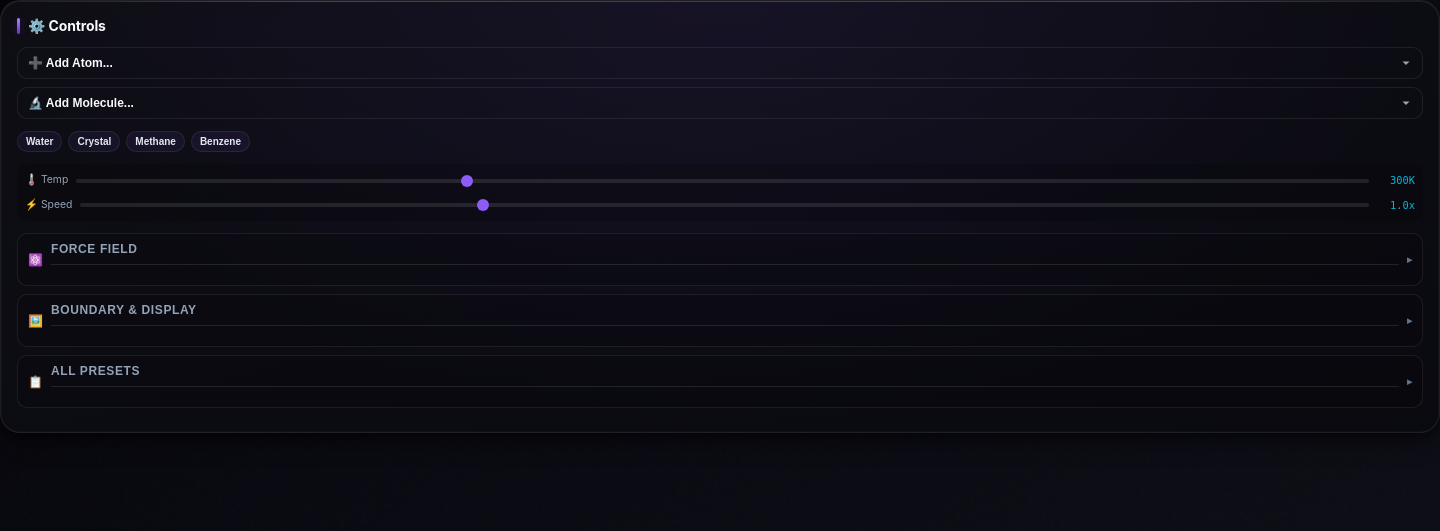
Test: ControlPanel Component › should have trails toggle in expanded section
// Click to expand the Boundary & Display section
Step 1. Click the text "Boundary & Display" → (725, 315), box [51,304,1399,326]
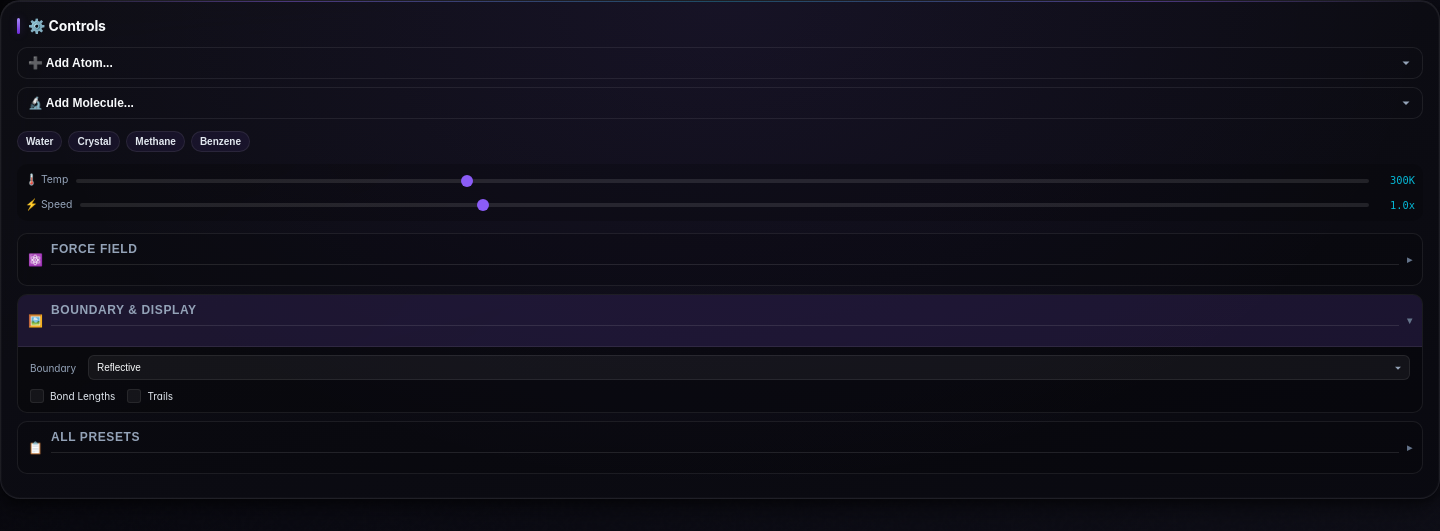
Now the text "Trails" is shown, box [127,388,173,404]
